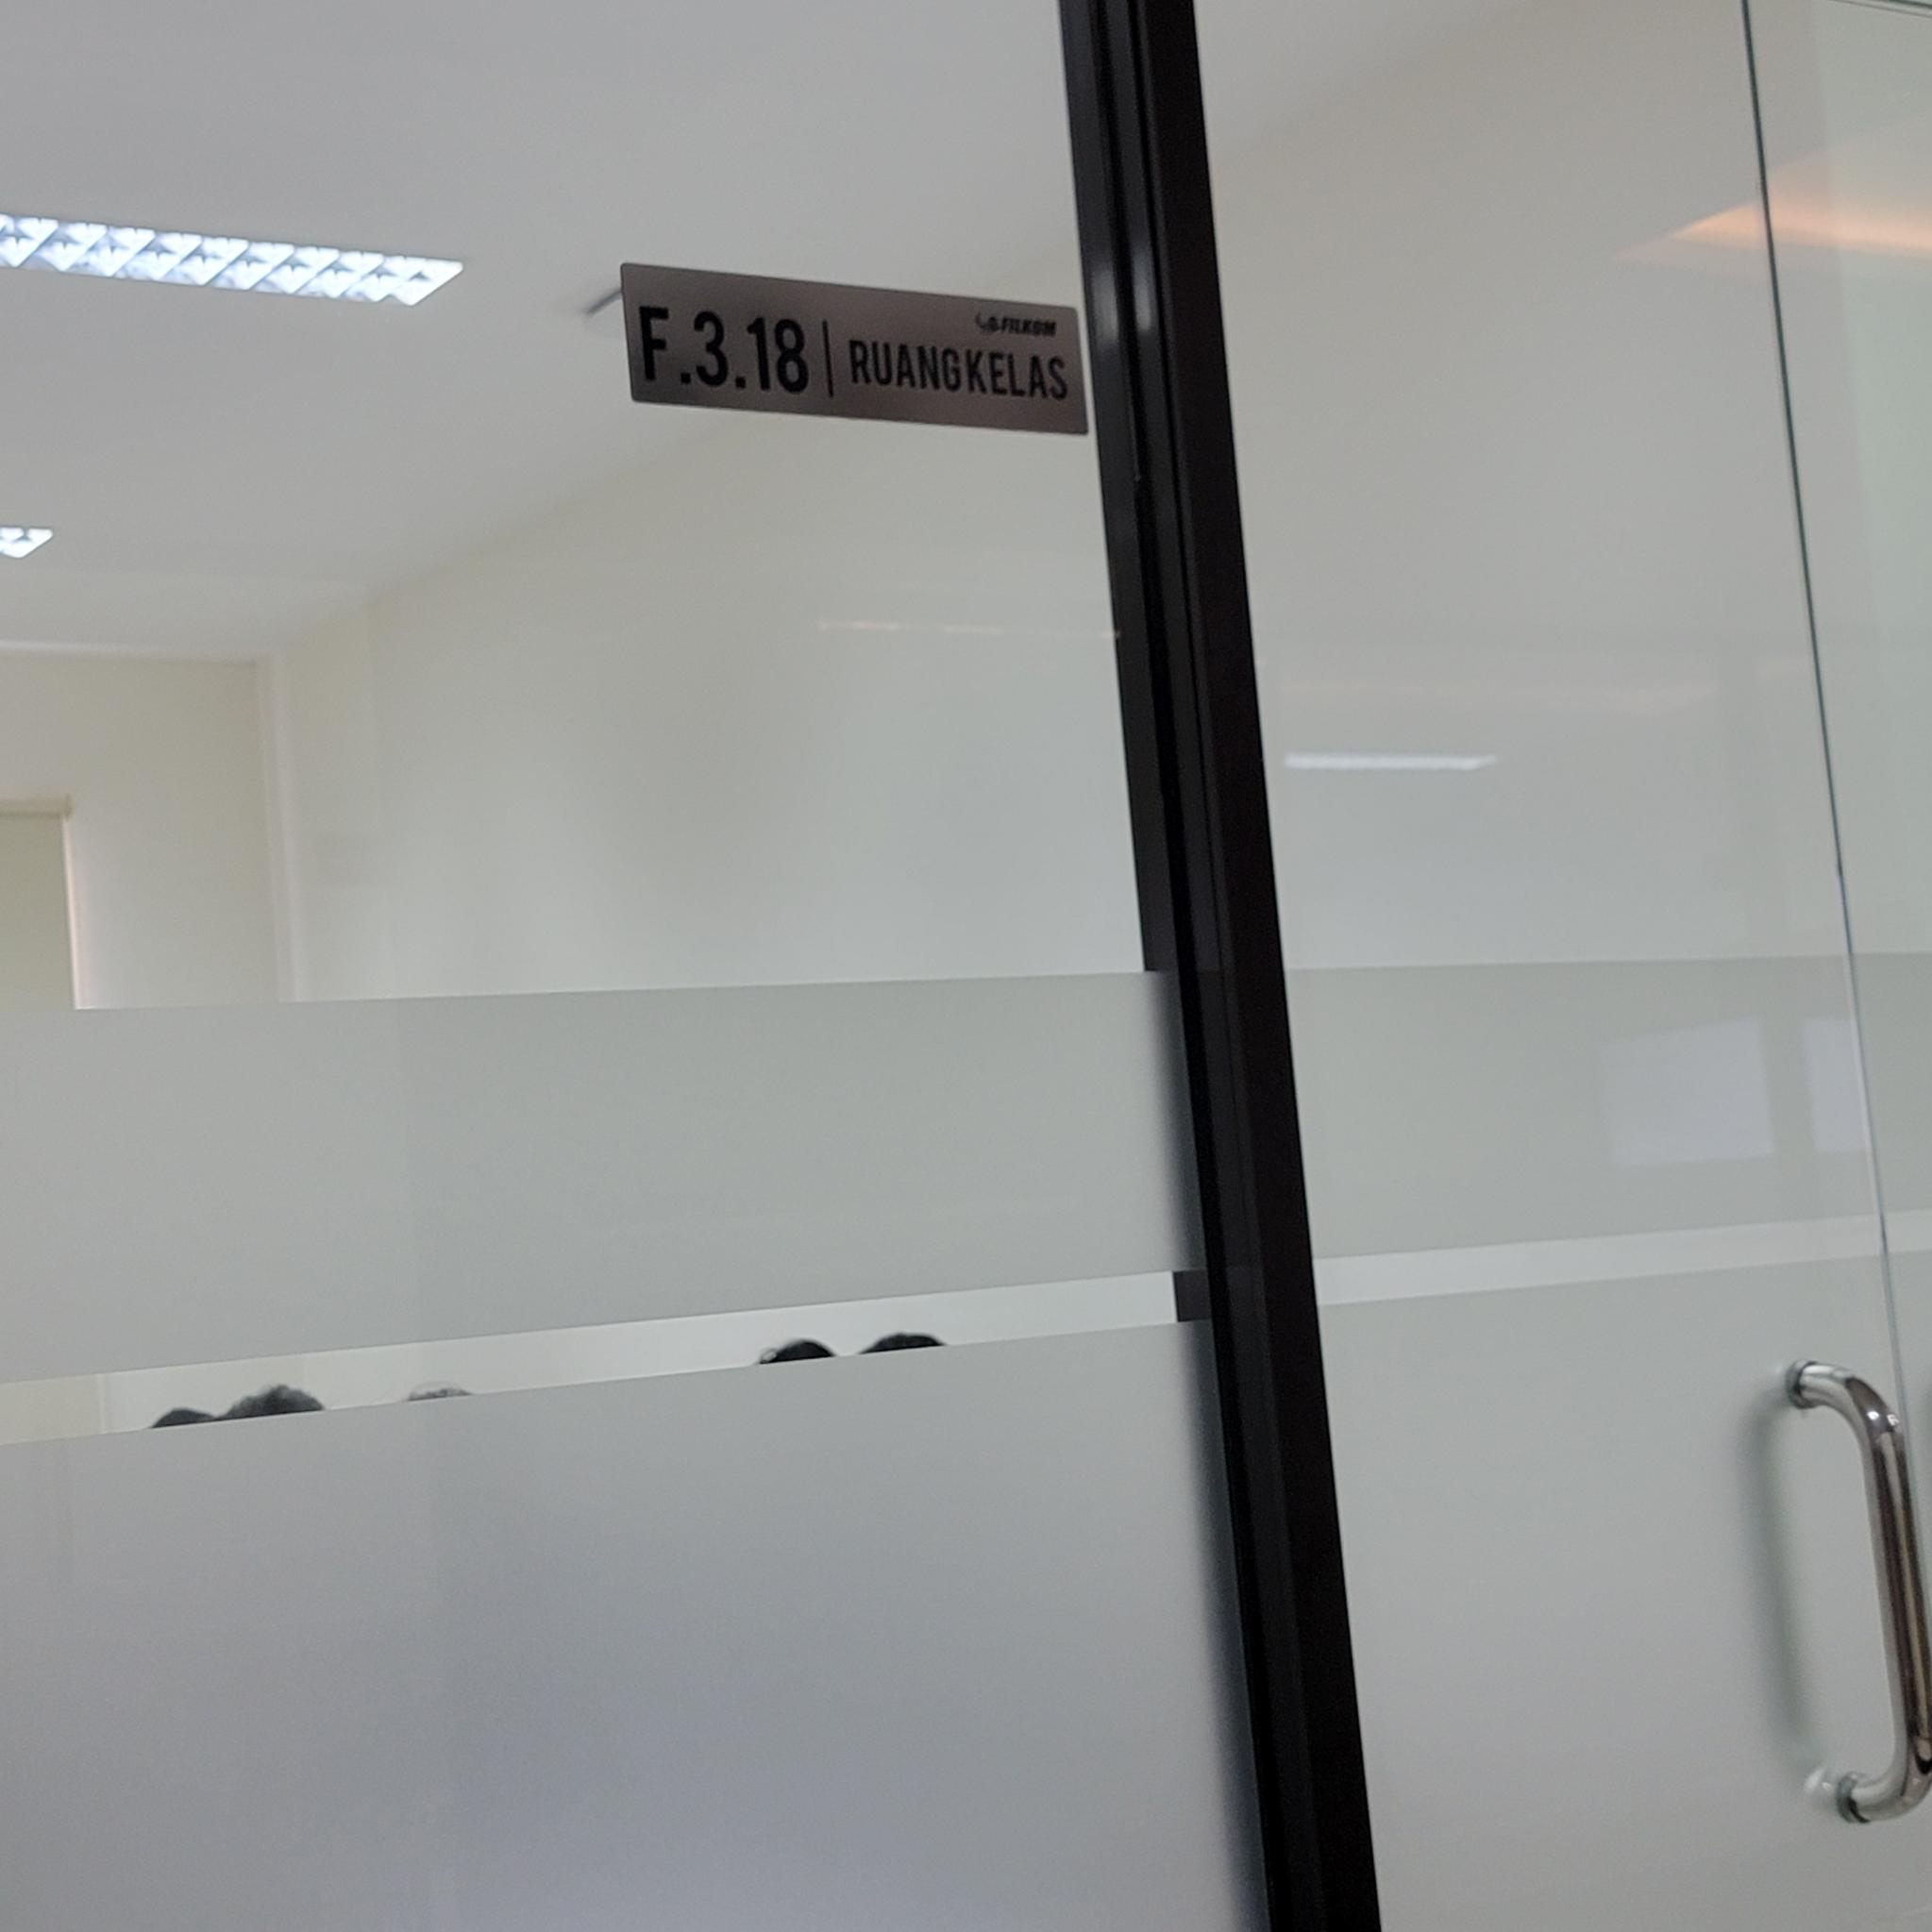plate: (619, 264, 1088, 435)
